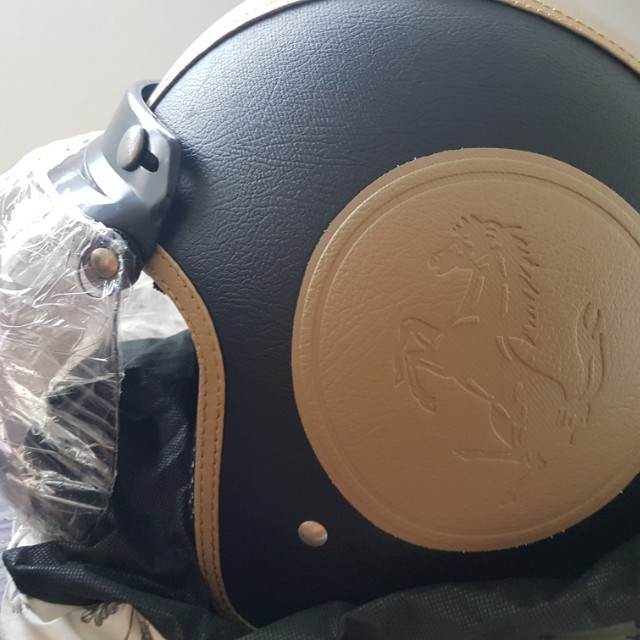with_helmet: (92, 1, 640, 623)
